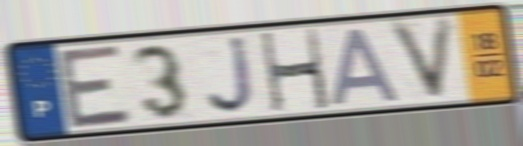3: (130, 41, 192, 121)
A: (329, 25, 406, 109)
E: (54, 41, 136, 132)
H: (256, 25, 333, 116)
J: (205, 33, 259, 118)
V: (384, 12, 460, 107)
